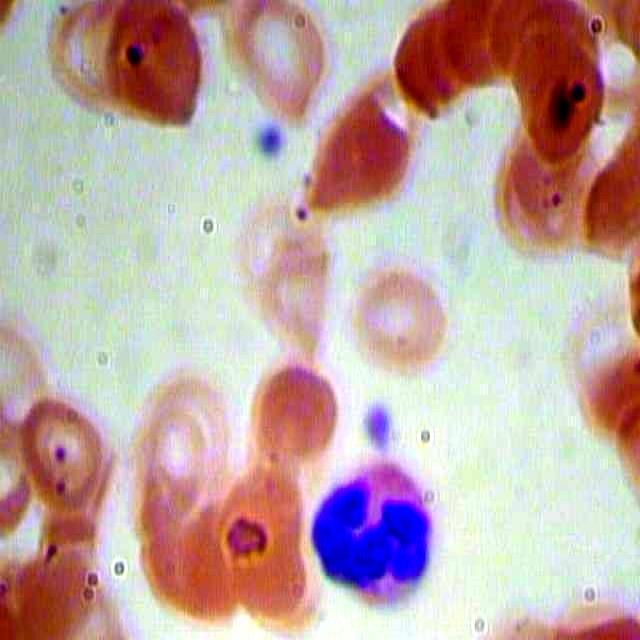Platelets: (358, 400, 401, 460), (249, 116, 292, 176)
RBC: (299, 80, 415, 216), (499, 38, 613, 170), (104, 2, 211, 142), (239, 232, 343, 360), (7, 382, 111, 510), (210, 490, 314, 618), (493, 130, 597, 258), (346, 261, 456, 372), (243, 355, 353, 465), (232, 2, 336, 118), (149, 372, 235, 481), (14, 540, 95, 640), (137, 509, 211, 612), (444, 1, 512, 90)
WBC: (301, 461, 451, 616)
